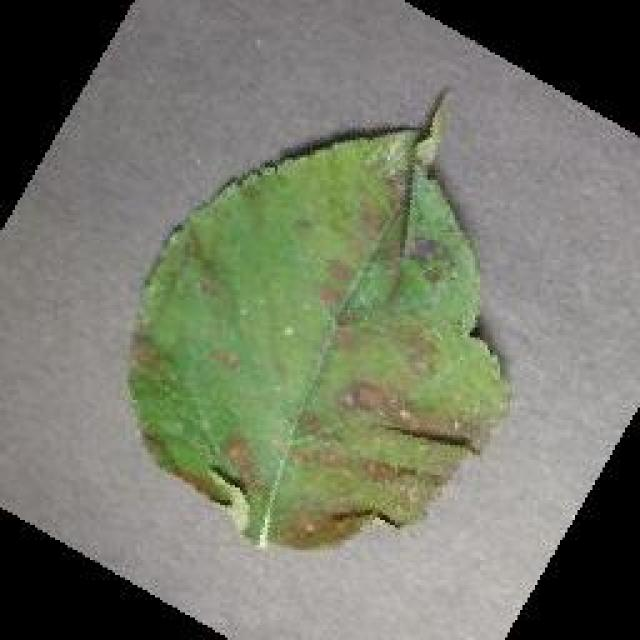apple cedar apple rust: (122, 82, 512, 552)
